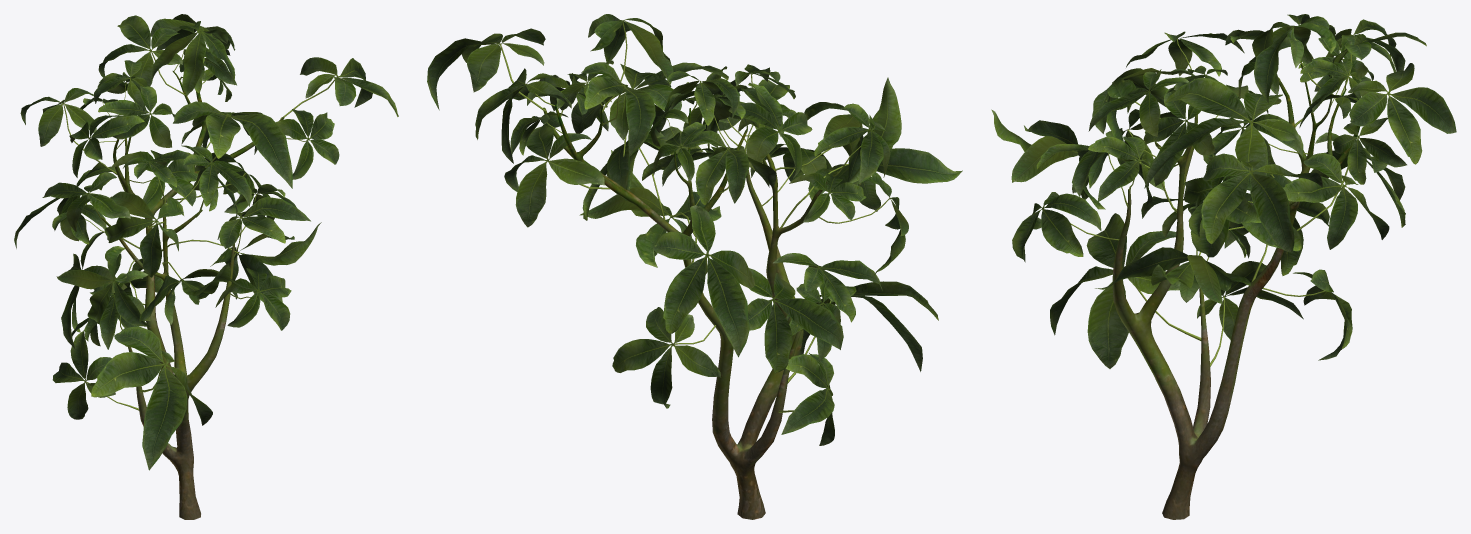
Rendered from pachira_aquatica_01_03.glb.
3 renders of one model, left to right at view 1: azimuth 30°, elevation 25°; view 2: azimuth 150°, elevation 25°; view 3: azimuth 270°, elevation 25°, orthographic. The views are drawn at different scales.
Visible parts, largest first — view 1: pachira_aquatica_01_leaves, pachira_aquatica_01_bark; view 2: pachira_aquatica_01_leaves, pachira_aquatica_01_bark; view 3: pachira_aquatica_01_leaves, pachira_aquatica_01_bark.
Boxes of the visible parts, x1,y1,x2,y2 form: pachira_aquatica_01_leaves: (14, 14, 398, 470); pachira_aquatica_01_bark: (101, 71, 284, 519); pachira_aquatica_01_leaves: (427, 14, 962, 445); pachira_aquatica_01_bark: (543, 104, 838, 519); pachira_aquatica_01_leaves: (991, 14, 1456, 368); pachira_aquatica_01_bark: (1112, 61, 1359, 519).
Size of the model in its own units: 0.9753 by 1.15 by 0.9237.
Materials: 2 (2 with a texture image).
